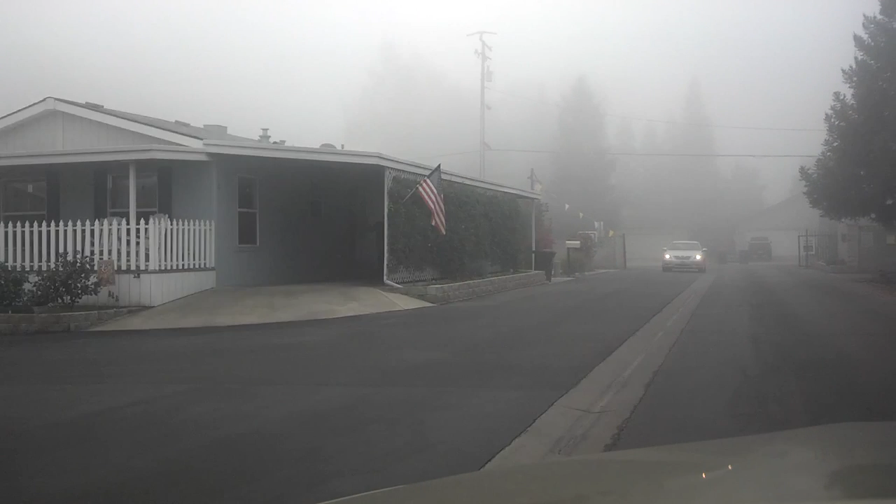car: (660, 239, 710, 273), (746, 234, 773, 260)
